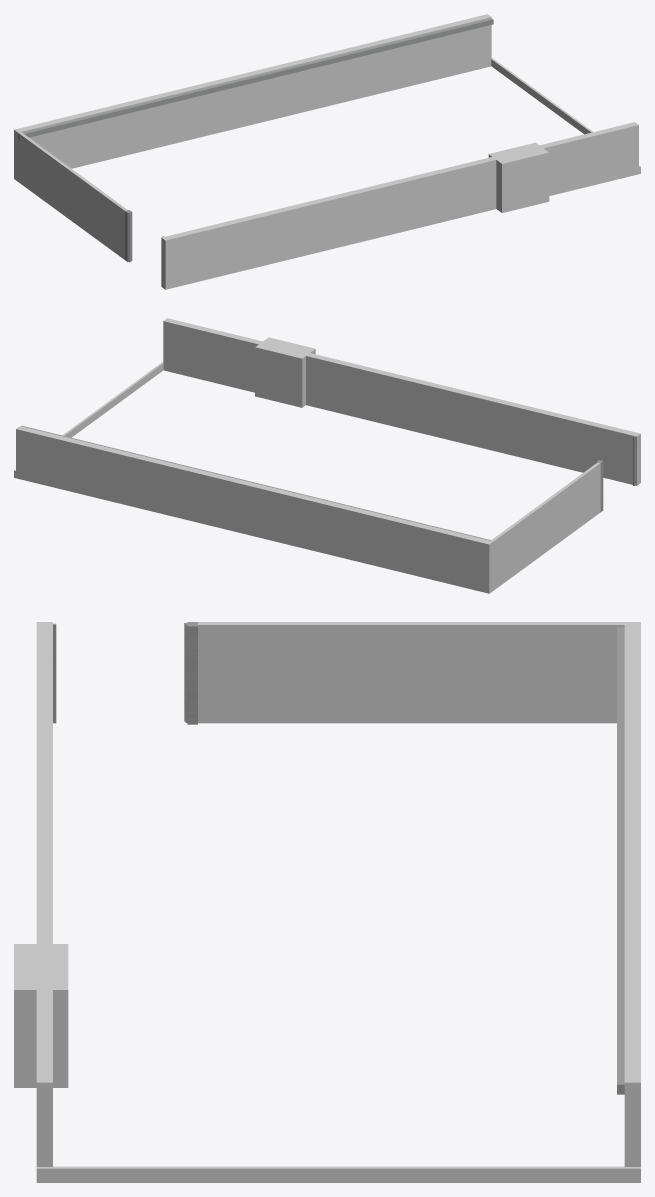
Rendered from Lab_Mesh_B.dae.
The picture shows the model from 3 angles, top to bottom: view 1: azimuth 30°, elevation 25°; view 2: azimuth 150°, elevation 25°; view 3: azimuth 270°, elevation 25°; orthographic projection. The views are drawn at different scales.
Visible parts, largest first — view 1: Lab_Mesh_B; view 2: Lab_Mesh_B; view 3: Lab_Mesh_B.
Part boxes in pixels (box(x1,y1,x2,y2)): Lab_Mesh_B: box(14, 14, 640, 289); Lab_Mesh_B: box(14, 318, 640, 593); Lab_Mesh_B: box(14, 622, 640, 1182).
Bounding box in the file's own units: 10.1 × 5.78 × 1.
Materials: 2 (1 with a texture image).
